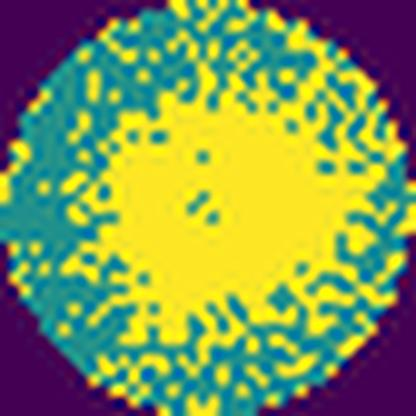Center: (82, 93, 341, 344)
